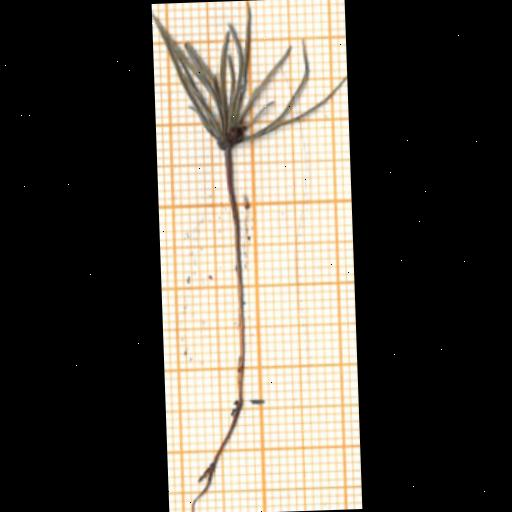flowerPinus: (157, 5, 344, 152)
rootPinus: (189, 402, 242, 512)
stemPinus: (223, 148, 245, 403)
